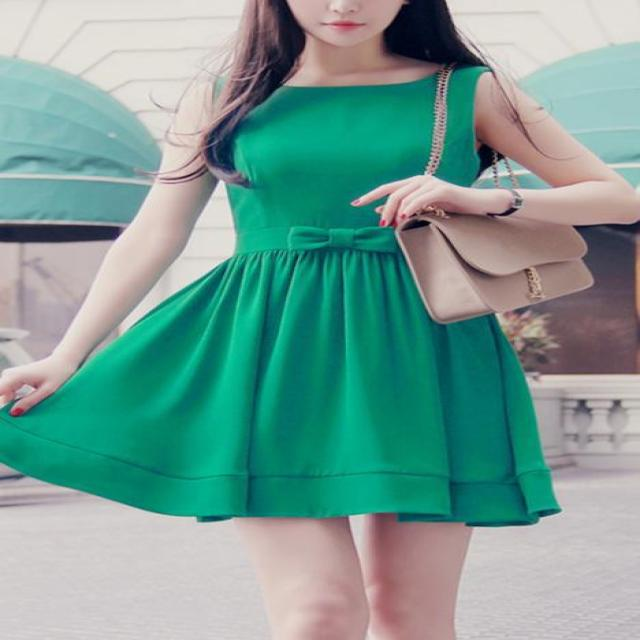short-sleeve-dress: (137, 48, 609, 536)
